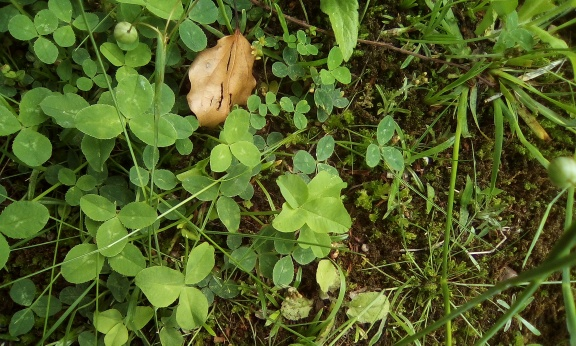4leaf: (271, 170, 352, 235)
